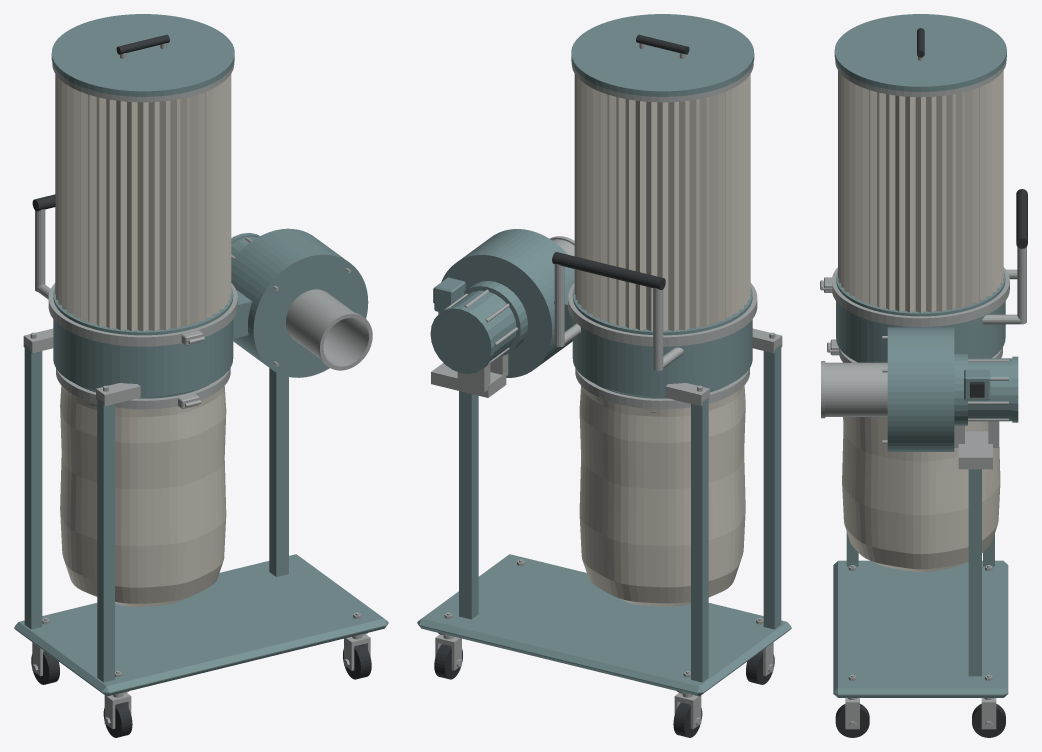
The picture shows the model from 3 angles, left to right: view 1: azimuth 30°, elevation 25°; view 2: azimuth 150°, elevation 25°; view 3: azimuth 270°, elevation 25°; orthographic projection. The views are drawn at different scales.
Visible parts, largest first — view 1: Hollow pleated upper filter, Independent open top opaque collection bag, Chamfered mobile steel base, Filter sealed top cap, Open top bottom collector plenum, Blower front annular cover, Rear steel collector support, Front steel collector support, Bare inlet straight tube, Blower support upright, Hollow blower radial shell, Upper filter retaining clamp (+9 smaller); view 2: Hollow pleated upper filter, Independent open top opaque collection bag, Chamfered mobile steel base, Filter sealed top cap, Open top bottom collector plenum, Front steel collector support, Rear steel collector support, Blower closed rear cover, Blower support upright, Motor rear cap, Hollow blower radial shell, Upper filter retaining clamp (+15 smaller); view 3: Hollow pleated upper filter, Chamfered mobile steel base, Independent open top opaque collection bag, Filter sealed top cap, Hollow blower radial shell, Open top bottom collector plenum, Bare inlet straight tube, Blower support upright, Upper filter retaining clamp, Faceted motor sealed housing, Motor transverse saddle, Upper filter connecting collar (+11 smaller).
Part boxes in pixels (x1,y1,x2,y2): Hollow pleated upper filter: (55, 74, 231, 331); Independent open top opaque collection bag: (60, 385, 226, 606); Chamfered mobile steel base: (14, 554, 388, 696); Filter sealed top cap: (51, 14, 234, 96); Open top bottom collector plenum: (53, 319, 233, 392); Blower front annular cover: (252, 252, 368, 377); Rear steel collector support: (24, 345, 42, 629); Front steel collector support: (97, 398, 114, 682); Bare inlet straight tube: (286, 289, 371, 368); Blower support upright: (269, 368, 288, 576); Hollow blower radial shell: (231, 230, 343, 365); Upper filter retaining clamp: (48, 283, 237, 346); Hollow pleated upper filter: (574, 74, 750, 331); Independent open top opaque collection bag: (579, 385, 745, 606); Chamfered mobile steel base: (417, 554, 791, 696); Filter sealed top cap: (571, 14, 754, 96); Open top bottom collector plenum: (572, 319, 752, 392); Front steel collector support: (763, 345, 781, 629); Rear steel collector support: (691, 398, 708, 682); Blower closed rear cover: (438, 252, 554, 377); Blower support upright: (459, 391, 478, 619); Motor rear cap: (430, 306, 494, 373); Hollow blower radial shell: (462, 230, 574, 364); Upper filter retaining clamp: (568, 283, 757, 346); Hollow pleated upper filter: (838, 70, 1003, 312); Chamfered mobile steel base: (833, 560, 1008, 697); Independent open top opaque collection bag: (842, 417, 1000, 572); Filter sealed top cap: (834, 14, 1006, 91); Hollow blower radial shell: (890, 327, 950, 451); Open top bottom collector plenum: (836, 301, 1005, 362); Bare inlet straight tube: (825, 362, 887, 416); Blower support upright: (968, 469, 981, 676); Upper filter retaining clamp: (831, 267, 1009, 326); Faceted motor sealed housing: (968, 358, 1012, 421); Motor transverse saddle: (958, 431, 992, 469); Upper filter connecting collar: (836, 271, 1005, 316).
Bounding box in the file's own units: 0.653 × 1.39 × 0.427.
